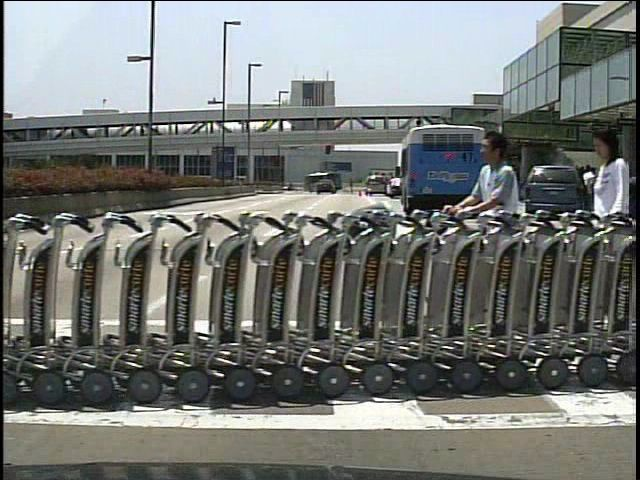person: (444, 125, 536, 365), (575, 116, 628, 331), (581, 164, 601, 215), (577, 163, 595, 218), (347, 176, 355, 196)
